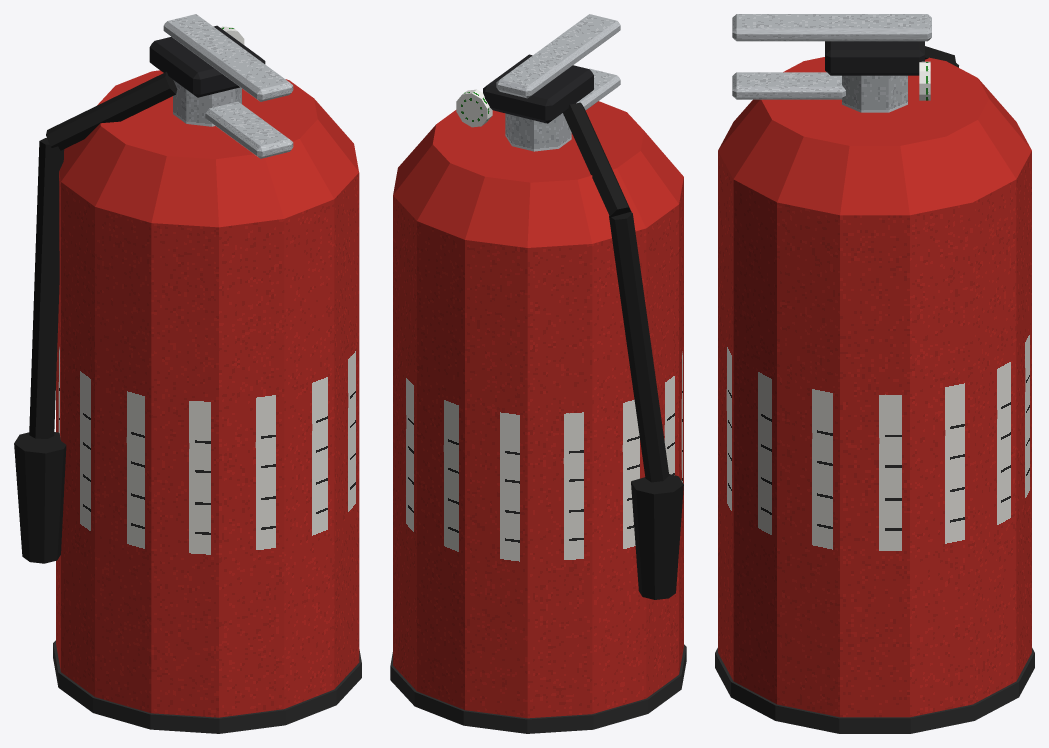
Rendered from extinguisher.glb.
3 renders of one model, left to right at view 1: azimuth 30°, elevation 25°; view 2: azimuth 150°, elevation 25°; view 3: azimuth 270°, elevation 25°, orthographic. The views are drawn at different scales.
Parts seen in each view (by area): view 1: block_tank, block_dome, block_hose2, block_nozzle, block_base, block_lever, block_hose1, block_head, block_handle, block_valve; view 2: block_tank, block_dome, block_hose2, block_nozzle, block_base, block_lever, block_head, block_hose1, block_valve, block_gauge, block_handle; view 3: block_tank, block_dome, block_base, block_lever, block_head, block_handle, block_valve.
Boxes of the visible parts, x1,y1,x2,y2 form: block_tank: [56, 172, 359, 717]; block_dome: [59, 70, 358, 227]; block_hose2: [29, 138, 64, 438]; block_nozzle: [14, 432, 66, 563]; block_base: [53, 640, 361, 733]; block_lever: [163, 14, 293, 101]; block_hose1: [46, 72, 177, 150]; block_head: [149, 25, 265, 97]; block_handle: [205, 101, 293, 158]; block_valve: [173, 80, 241, 126]; block_tank: [393, 178, 683, 718]; block_dome: [393, 101, 683, 247]; block_hose2: [609, 212, 669, 482]; block_nozzle: [631, 474, 683, 599]; block_base: [390, 644, 686, 733]; block_lever: [496, 14, 620, 98]; block_head: [483, 54, 593, 123]; block_hose1: [563, 102, 631, 217]; block_valve: [505, 113, 571, 151]; block_gauge: [456, 89, 492, 127]; block_handle: [576, 68, 620, 110]; block_tank: [718, 151, 1031, 717]; block_dome: [718, 57, 1031, 215]; block_base: [715, 648, 1034, 733]; block_lever: [732, 14, 931, 41]; block_head: [825, 41, 924, 75]; block_handle: [732, 72, 845, 99]; block_valve: [842, 75, 907, 112].
Size of the model in its own units: 0.2477 by 0.5 by 0.224.
Materials: 2 (2 with a texture image).
